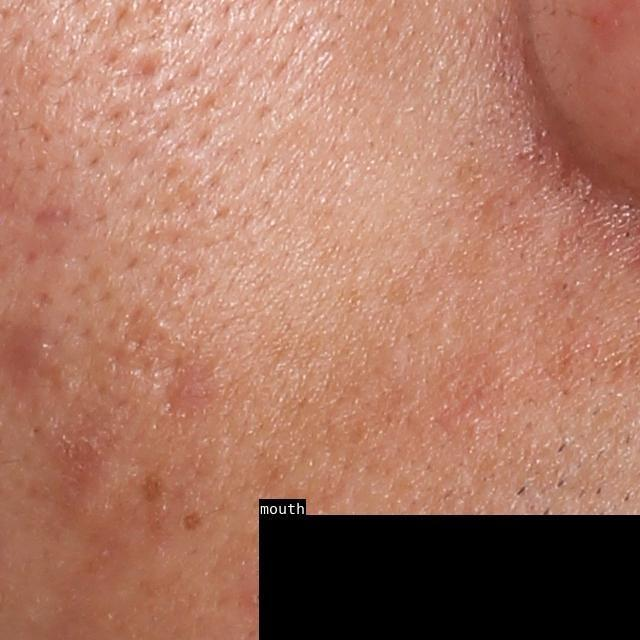atrophic_scar: (156, 341, 220, 431), (33, 202, 82, 231)
